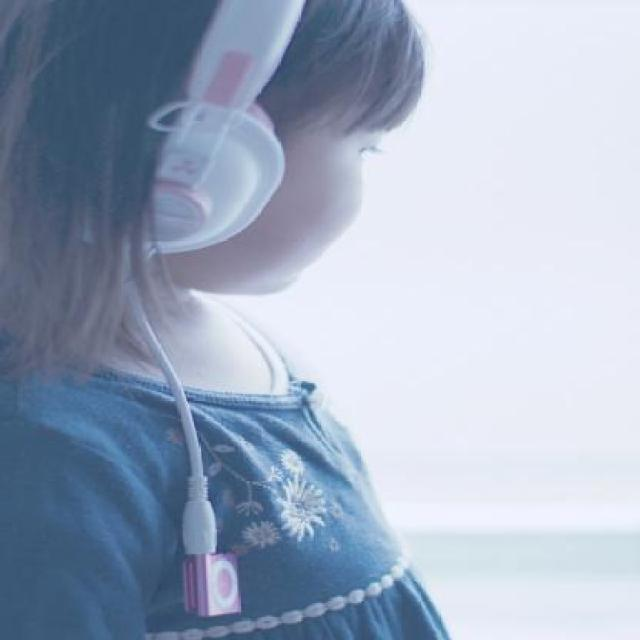earphone: (154, 0, 318, 298)
